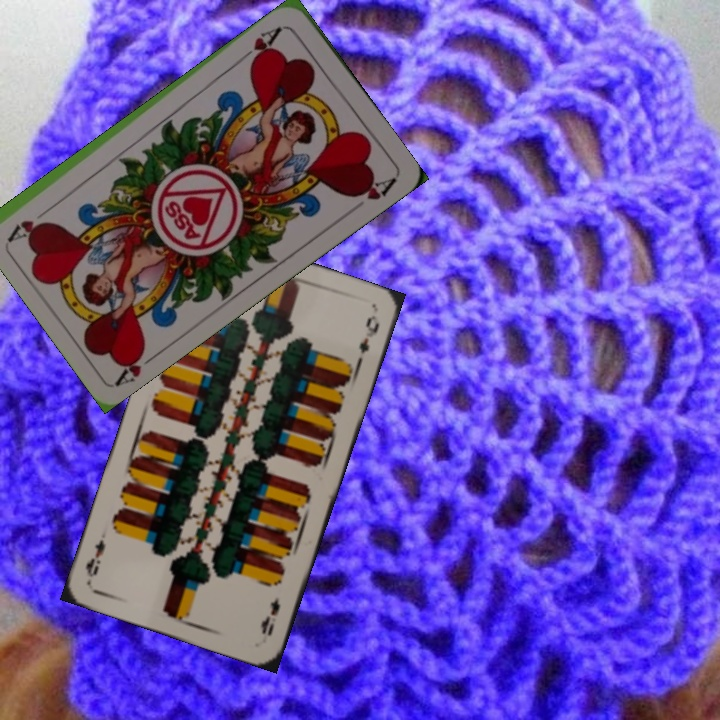E9: (256, 594, 283, 639)
HA: (112, 342, 164, 388), (236, 22, 287, 67)
